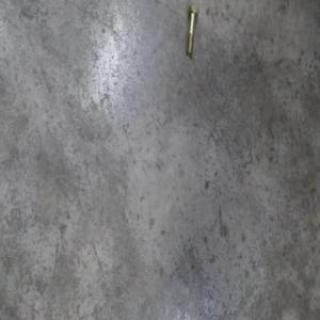Bolttrack_idkeyframe: (184, 8, 198, 59)
